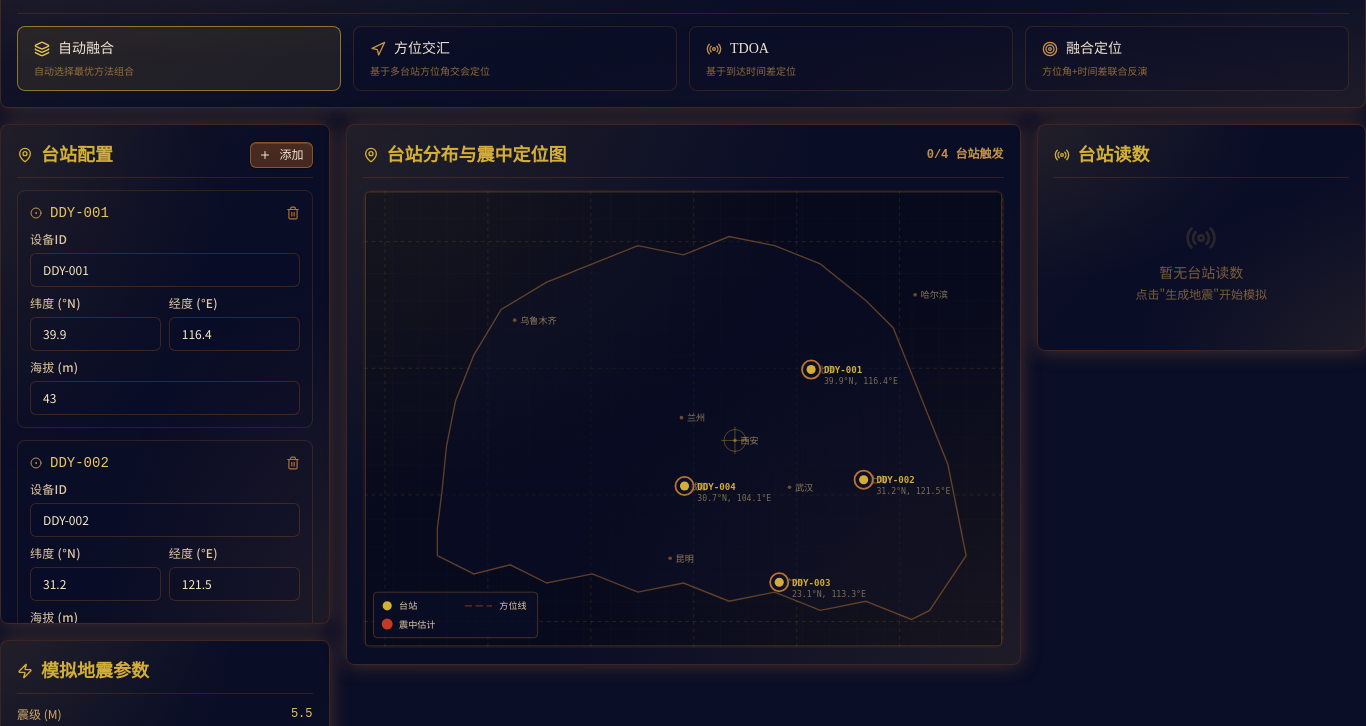
NetworkLocalization 地震台网定位 › 边界场景（6个） › TC-B-1 添加台站：点击添加button后，台站数量从4增加到5
Click the button "添加". click: (282, 155)
box: [250,142,312,168]
(page scrolled)
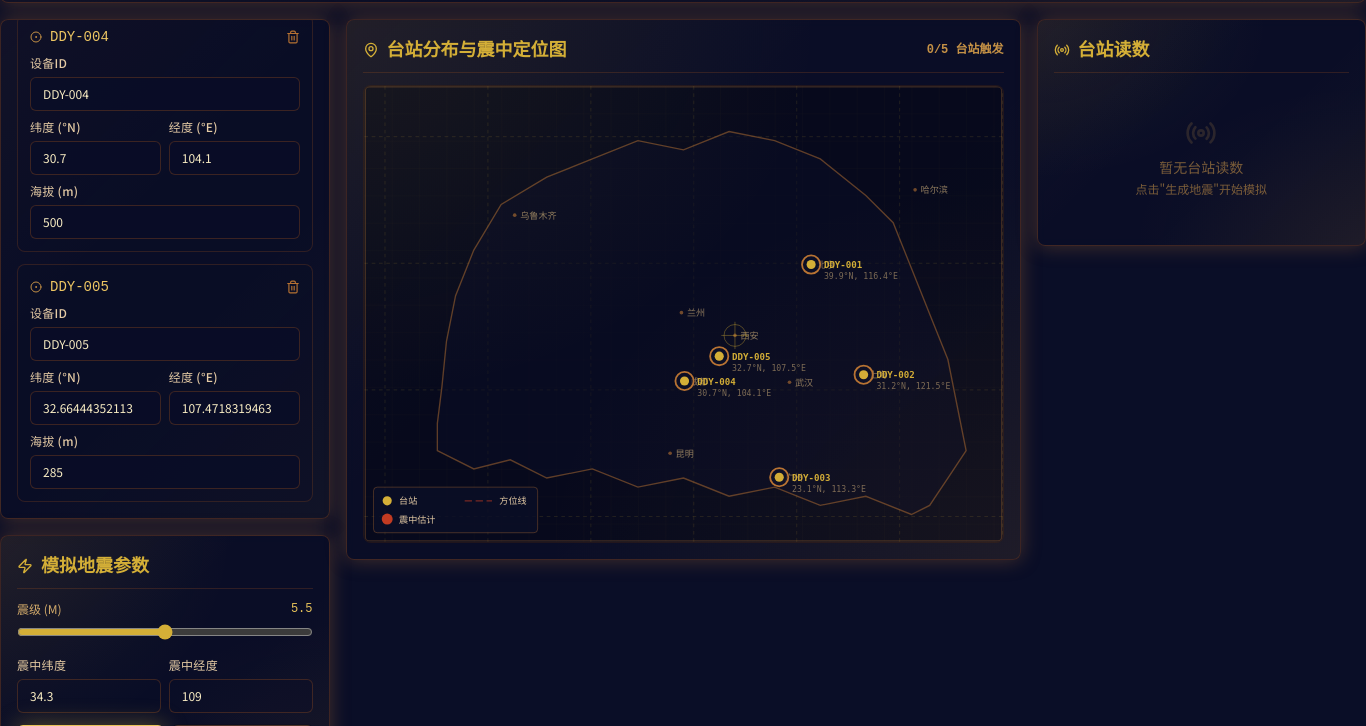
Expected: the 2nd field showing "DDY-005" is shown, [30,327,300,361]
